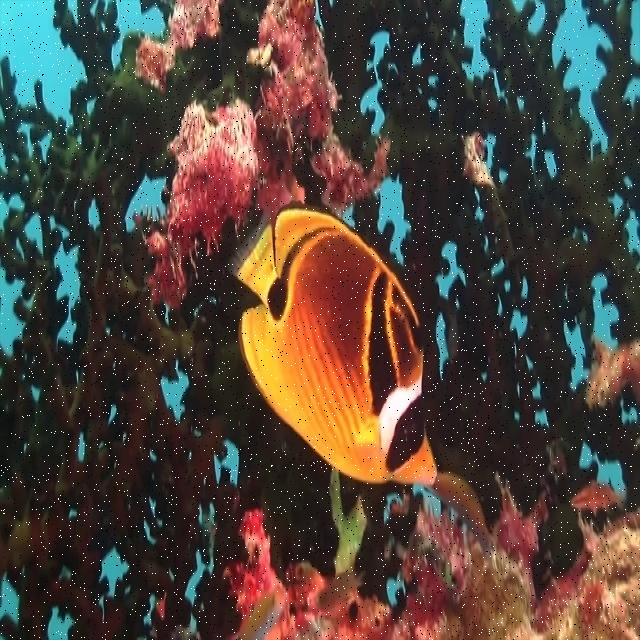fish: (228, 203, 436, 489)
reefs: (133, 1, 390, 307), (223, 468, 639, 639), (132, 0, 220, 96), (581, 339, 639, 407), (464, 133, 495, 189)
